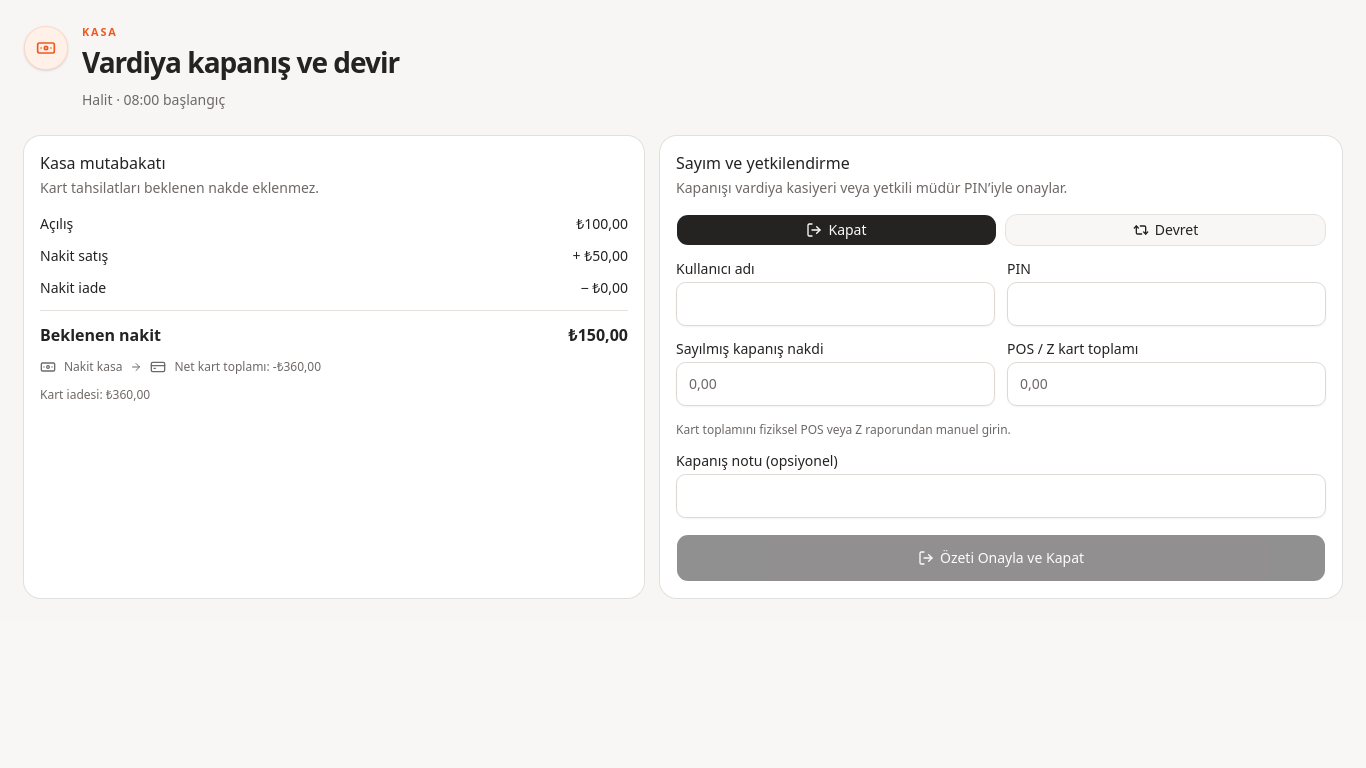
CashierShiftPage › compares the POS total with net card sales: -360,00
Expected: the heading "Vardiya kapanış ve devir" is shown, [82, 44, 399, 82]
Type "150,00" into the field labelled "Sayılmış kapanış nakdi".
click(836, 384); type("150,00")  # box [676, 362, 995, 406]
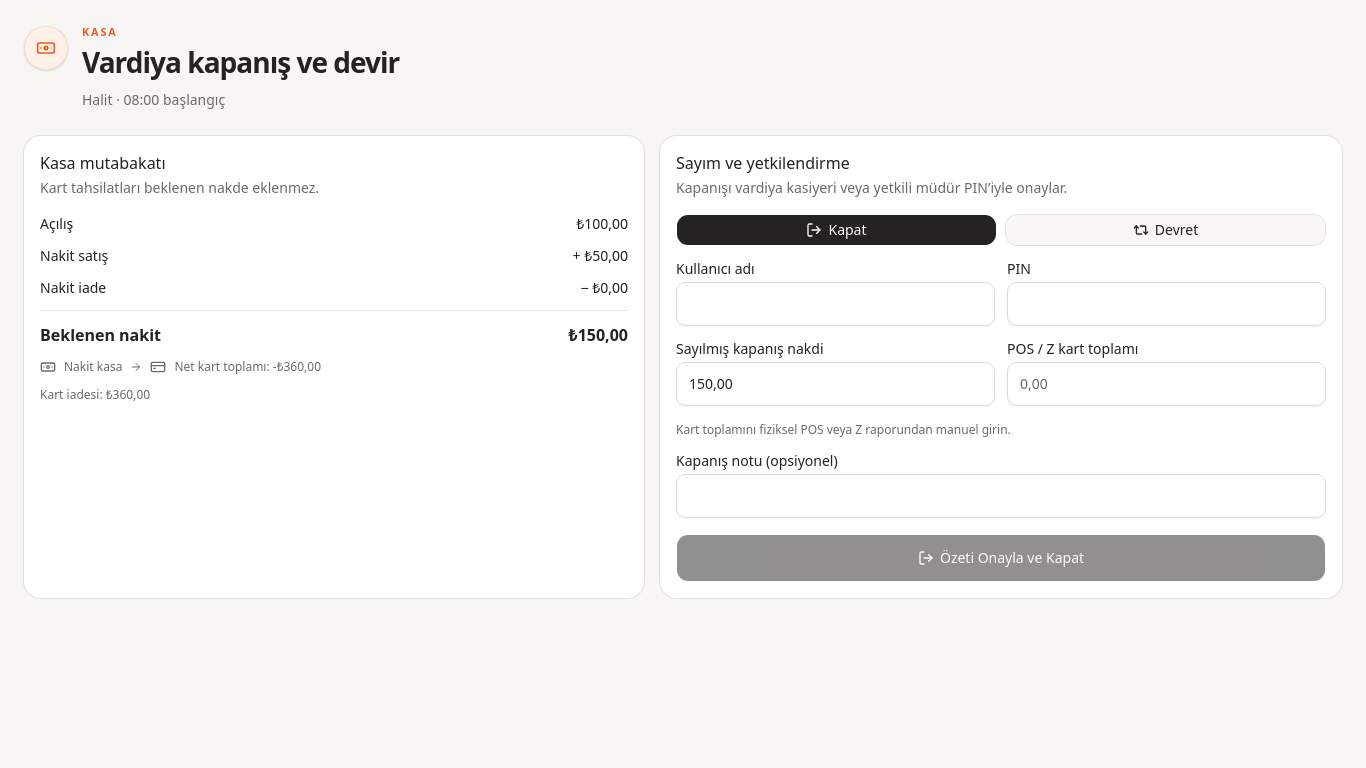
Type "-360,00" into the field labelled "POS / Z kart toplamı".
click(1166, 384); type("-360,00")  # box [1007, 362, 1326, 406]
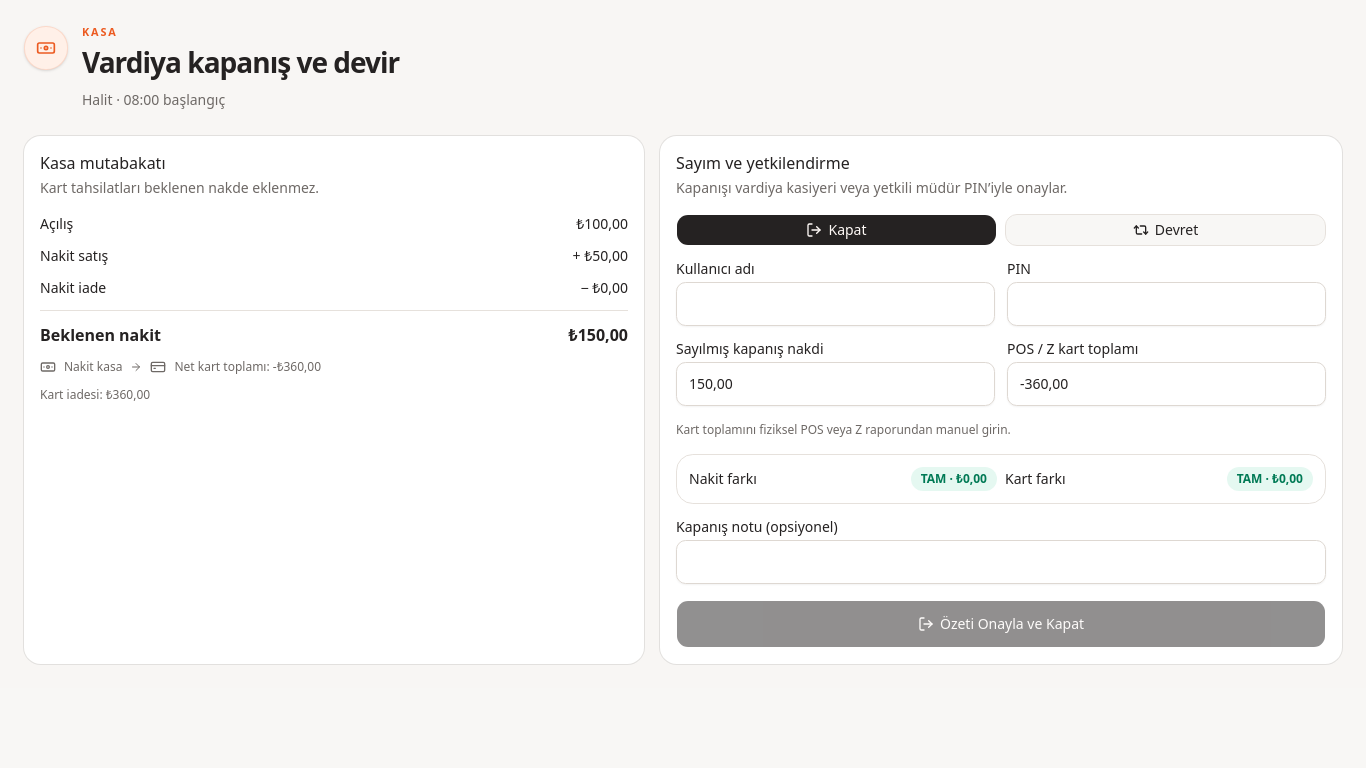
Expected: the text "Nakit kasa Net kart toplamı: -₺360,00" is shown, [40, 358, 321, 375]
Expected: the text "TAM · ₺0,00" is shown 2 times, [911, 467, 997, 491]; [1227, 467, 1313, 491]
